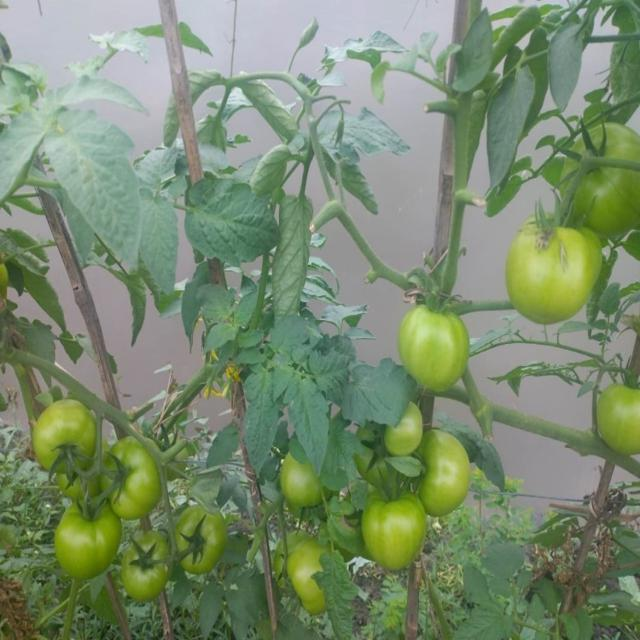tomato: (507, 221, 601, 325), (560, 124, 640, 228), (395, 302, 471, 395), (365, 495, 438, 577), (421, 417, 474, 521), (55, 502, 125, 580), (105, 432, 167, 520), (278, 541, 347, 617), (170, 504, 228, 578), (34, 403, 95, 472), (594, 376, 640, 467), (119, 529, 172, 607), (347, 425, 394, 491), (277, 451, 326, 514), (384, 404, 420, 456), (57, 461, 100, 504)
